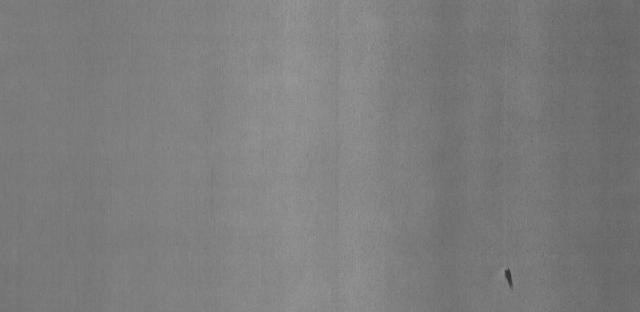inclusion: (496, 261, 522, 297)
